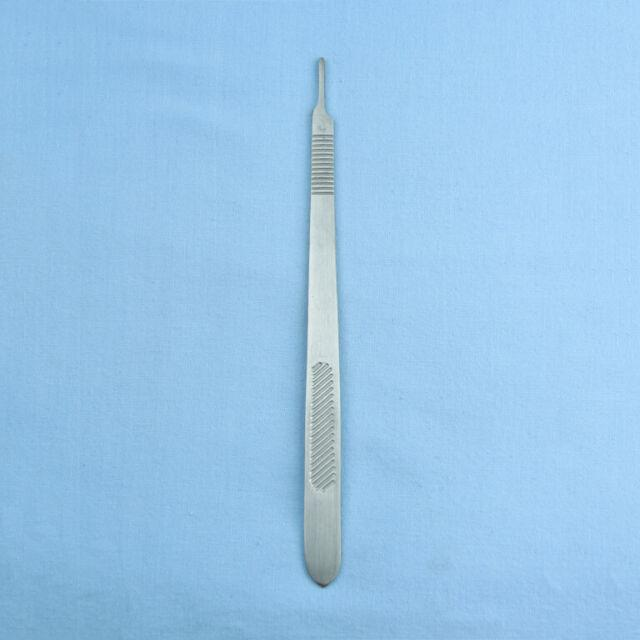Knife Handle: (279, 49, 354, 590)
